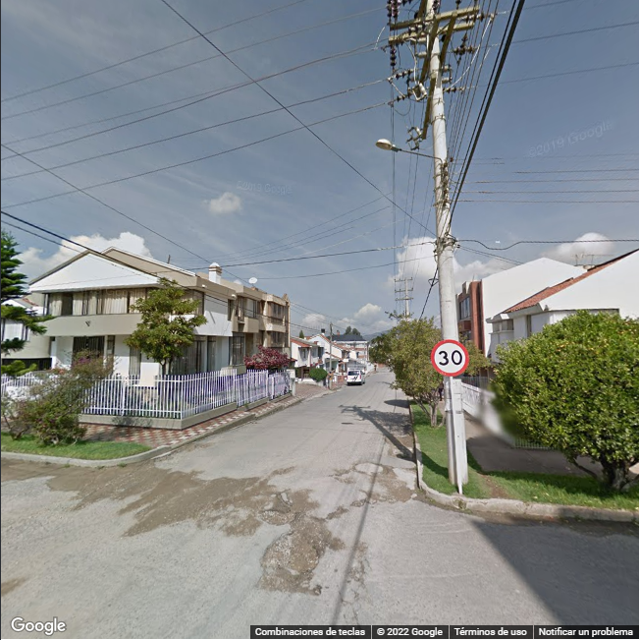D40: (267, 528, 316, 587), (255, 502, 290, 529)
